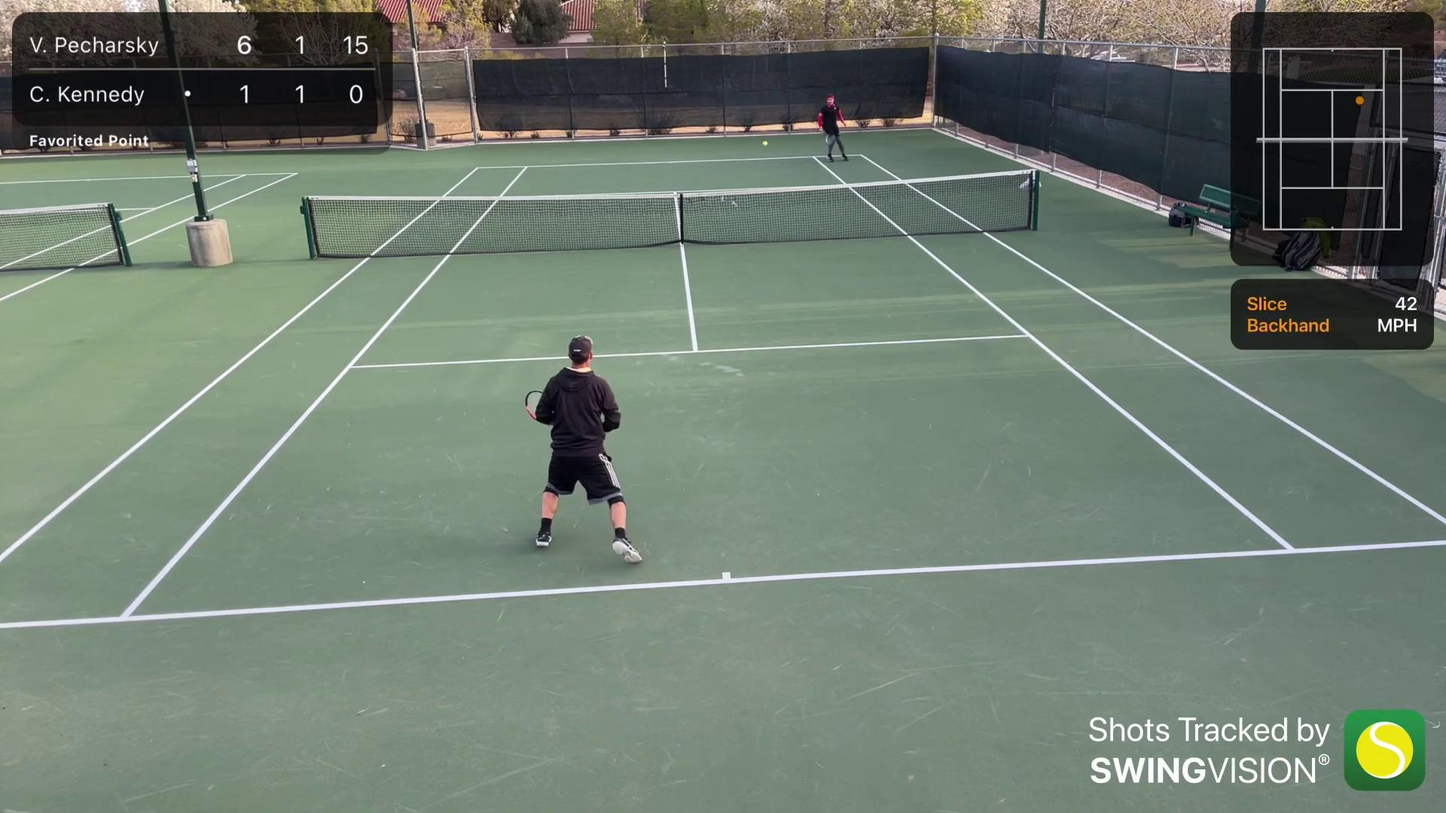ball: (760, 141, 768, 148)
